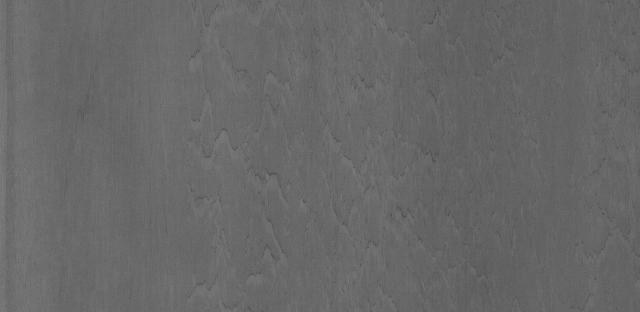silk_spot: (175, 11, 508, 301)
